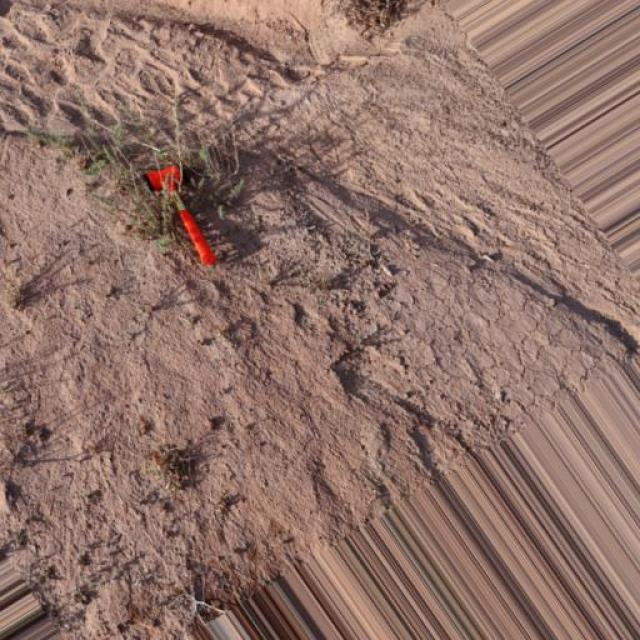mallet: (142, 162, 218, 266)
